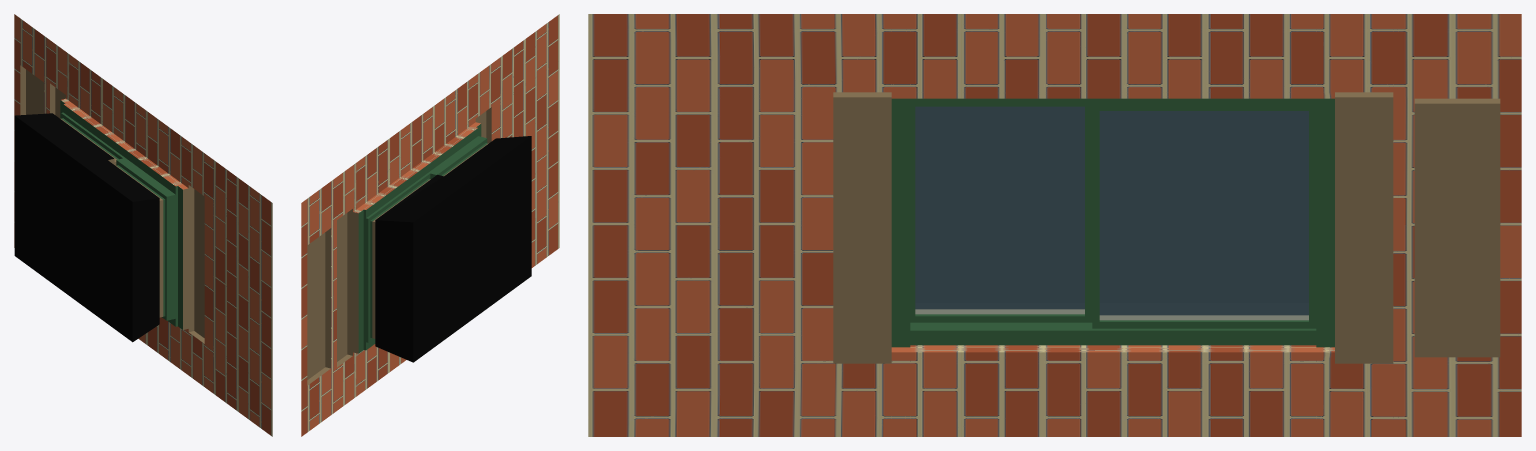
The model's file is wall03.fbx.
3 renders of one model, left to right at view 1: azimuth 30°, elevation 25°; view 2: azimuth 150°, elevation 25°; view 3: azimuth 270°, elevation 25°, orthographic. The views are drawn at different scales.
Visible parts, largest first — view 1: Cube; view 2: Cube; view 3: Cube.
Boxes of the visible parts, x1,y1,x2,y2 form: Cube: [14, 14, 272, 436]; Cube: [301, 14, 559, 436]; Cube: [588, 14, 1521, 436].
Bounding box in the file's own units: 55 × 200 × 400.
